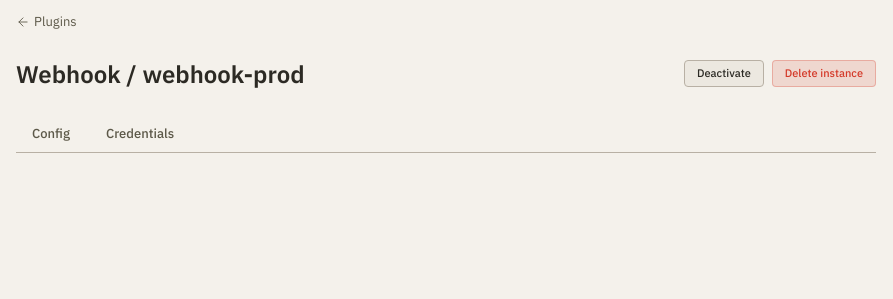
Test: AdminPluginInstancePage — Config tab error state › shows a recoverable error with retry when the config detail fails to load
The width and height of the screenshot is (893, 299).
Click the button "Config": click(51, 134) [16,116,86,153]
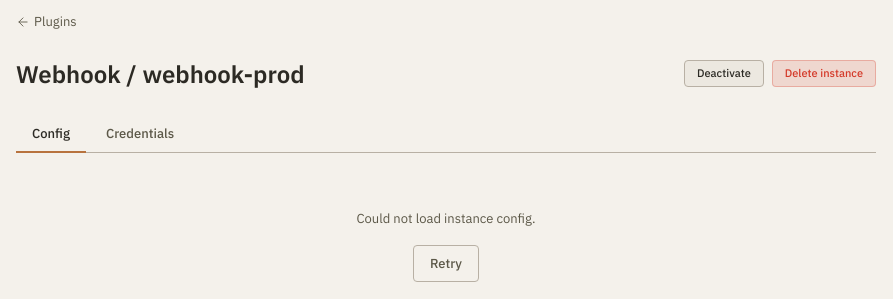
Result: the text "Could not load instance config." is shown at [356,209,536,228]
Result: the button "Retry" is shown at [413,244,479,282]
